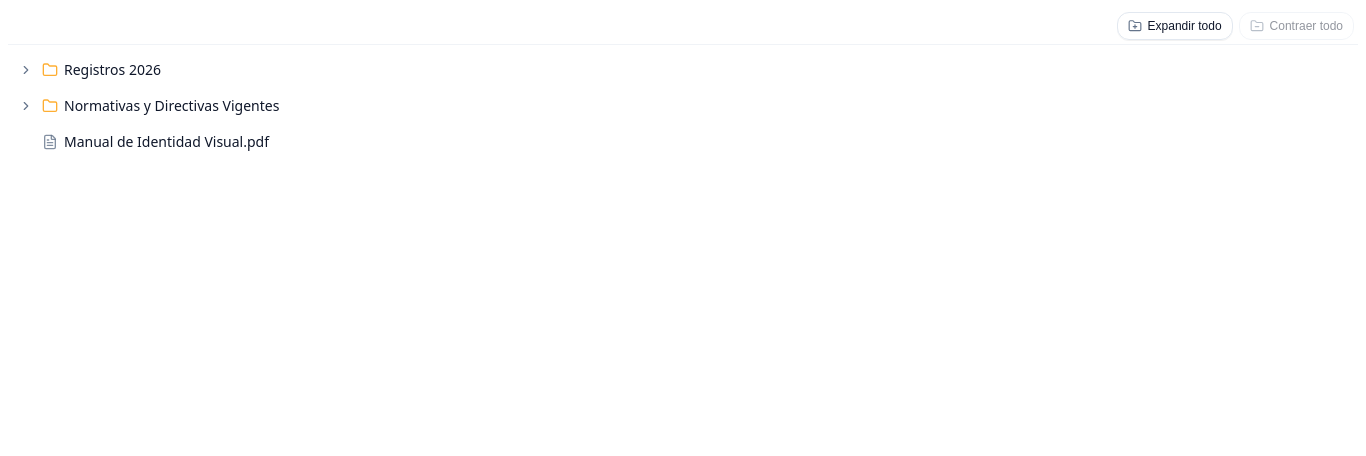
Test: TreeView Component › soporta toolbarLayout="pair" con botones separados y estados deshabilitados contextuales
The image size is (1366, 456).
Expected: the button "Contraer todo" is disabled, [1239,12,1354,40]
Click the button "Expandir todo" at (1175, 26), box [1116,12,1233,40]
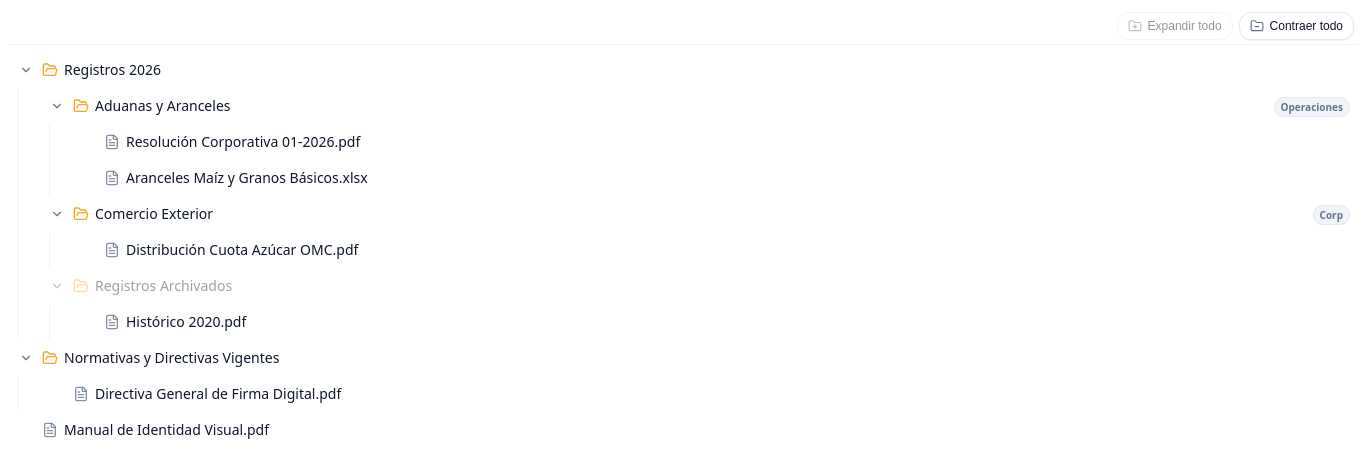
Expected: the text "Resolución Corporativa 01-2026.pdf" is shown, [126,132,360,151]
Expected: the button "Expandir todo" is disabled, [1116,12,1233,40]
Expected: the button "Contraer todo" is enabled
Click the button "Contraer todo" at (1296, 26), box [1239,12,1354,40]
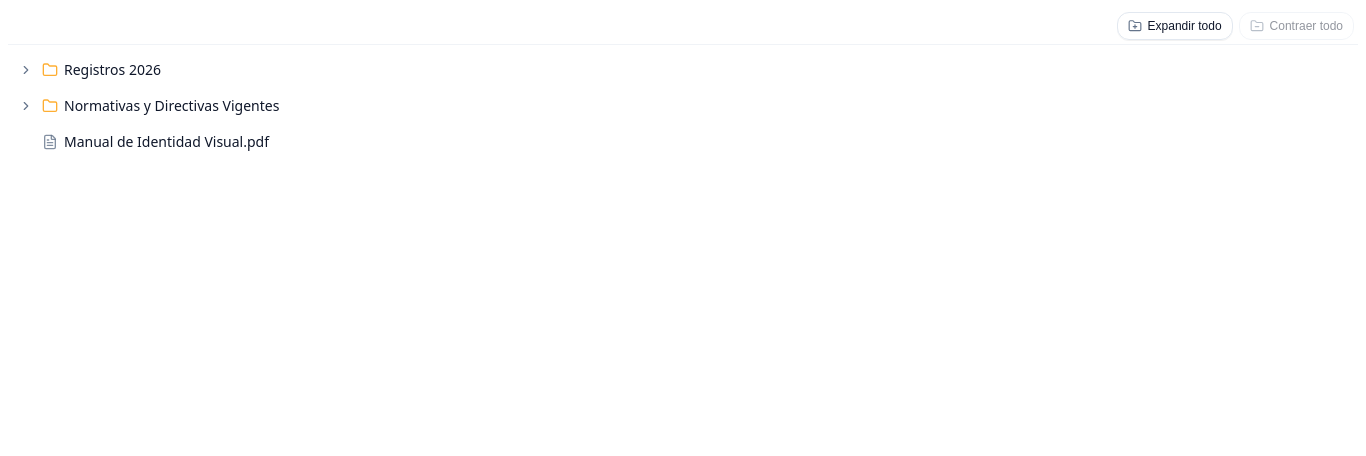
Expected: the text "Resolución Corporativa 01-2026.pdf" is gone
Expected: the button "Expandir todo" is enabled, [1116,12,1233,40]
Expected: the button "Contraer todo" is disabled, [1239,12,1354,40]
